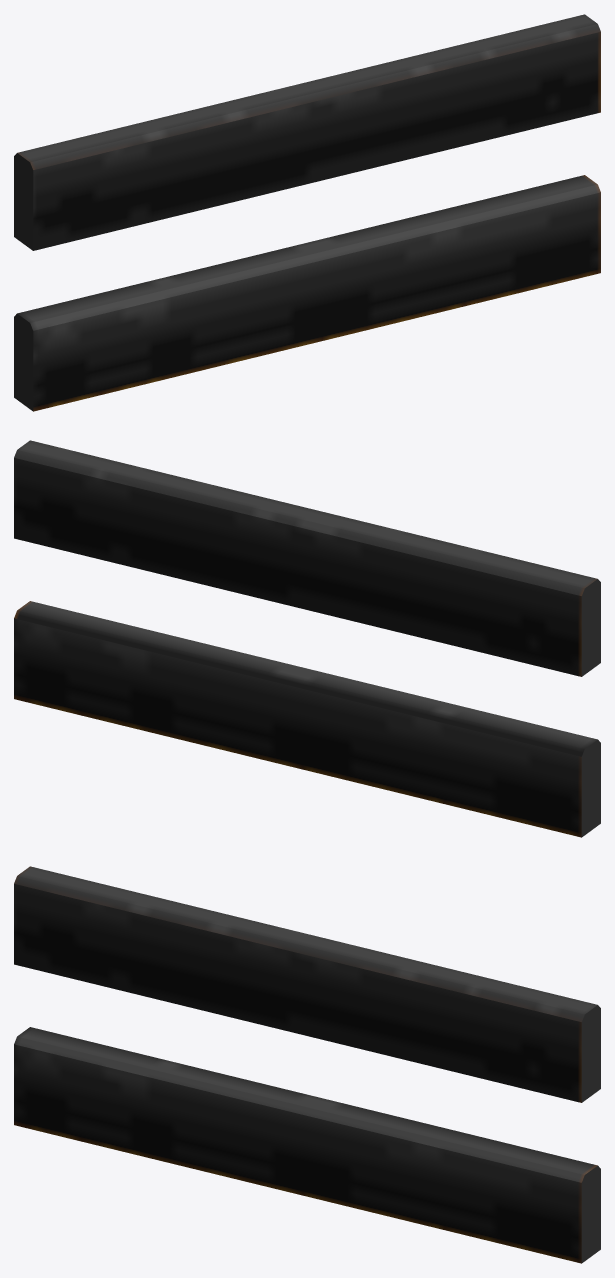
The model's file is fenceboard_darkwood_long_0421x01.obj.
3 renders of one model, top to bottom at view 1: azimuth 30°, elevation 25°; view 2: azimuth 150°, elevation 25°; view 3: azimuth 330°, elevation 25°, orthographic.
Visible parts, largest first — view 1: fenceboard_darkwood_long; view 2: fenceboard_darkwood_long; view 3: fenceboard_darkwood_long.
Part boxes in pixels (box(x1,y1,x2,y2)): fenceboard_darkwood_long: box(14, 14, 600, 411); fenceboard_darkwood_long: box(14, 440, 600, 837); fenceboard_darkwood_long: box(14, 866, 600, 1263).
Size of the model in its own units: 4.35 by 1.81 by 0.2551.
